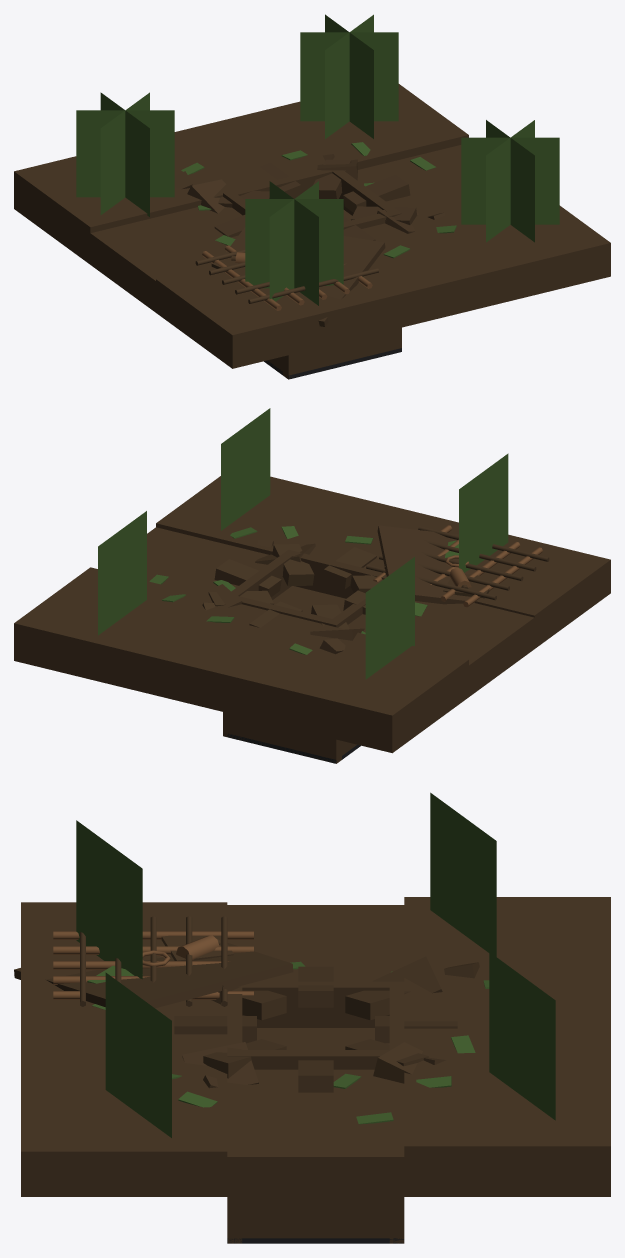
The model's file is vc-tunnel-entrance.glb.
3 views of the same model, one above another, from view 1: azimuth 30°, elevation 25°; view 2: azimuth 150°, elevation 25°; view 3: azimuth 270°, elevation 25° (orthographic). The views are drawn at different scales.
Parts seen in each view (by area): view 1: Mesh_GroundFront, Mesh_GroundBack, Mesh_JungleGrass1, Mesh_JungleGrass3, Mesh_JungleGrass2, Mesh_JungleGrass4, Mesh_GroundRight, Mesh_GroundBase, Mesh_GroundLeft, Mesh_ShaftWallFront, Mesh_TrapdoorBase, Mesh_Rim_6 (+8 smaller); view 2: Mesh_GroundBack, Mesh_GroundFront, Mesh_GroundBase, Mesh_GroundRight, Mesh_GroundLeft, Mesh_JungleGrass1, Mesh_JungleGrass3, Mesh_JungleGrass2, Mesh_JungleGrass4, Mesh_TrapdoorBase, Mesh_ShaftWallBack, Mesh_ShaftWallFront (+9 smaller); view 3: Mesh_GroundBack, Mesh_GroundFront, Mesh_GroundLeft, Mesh_GroundRight, Mesh_GroundBase, Mesh_ShaftWallLeft, Mesh_JungleGrass1, Mesh_JungleGrass2, Mesh_JungleGrass3, Mesh_JungleGrass4, Mesh_TrapdoorBase, Mesh_ShaftWallRight (+18 smaller).
Boxes of the visible parts, x1,y1,x2,y2 form: Mesh_GroundFront: [156, 205, 610, 358]; Mesh_GroundBack: [14, 84, 468, 254]; Mesh_JungleGrass1: [300, 14, 398, 138]; Mesh_JungleGrass3: [76, 92, 174, 216]; Mesh_JungleGrass2: [461, 120, 559, 242]; Mesh_JungleGrass4: [245, 181, 343, 305]; Mesh_GroundRight: [90, 207, 242, 302]; Mesh_GroundBase: [14, 199, 610, 368]; Mesh_GroundLeft: [357, 145, 461, 214]; Mesh_ShaftWallFront: [283, 209, 401, 379]; Mesh_TrapdoorBase: [224, 227, 385, 326]; Mesh_Rim_6: [343, 174, 410, 212]; Mesh_GroundBack: [14, 567, 468, 743]; Mesh_GroundFront: [156, 476, 610, 638]; Mesh_GroundBase: [14, 583, 610, 753]; Mesh_GroundRight: [348, 601, 534, 686]; Mesh_GroundLeft: [147, 527, 268, 593]; Mesh_JungleGrass1: [98, 511, 146, 635]; Mesh_JungleGrass3: [365, 557, 414, 679]; Mesh_JungleGrass2: [221, 408, 270, 530]; Mesh_JungleGrass4: [459, 453, 508, 572]; Mesh_TrapdoorBase: [377, 525, 477, 604]; Mesh_ShaftWallBack: [225, 595, 341, 763]; Mesh_ShaftWallFront: [291, 552, 386, 598]; Mesh_GroundBack: [404, 897, 610, 1183]; Mesh_GroundFront: [21, 902, 227, 1183]; Mesh_GroundLeft: [227, 1069, 404, 1183]; Mesh_GroundRight: [227, 905, 404, 981]; Mesh_GroundBase: [21, 1028, 610, 1196]; Mesh_ShaftWallLeft: [227, 1050, 390, 1238]; Mesh_JungleGrass1: [489, 952, 555, 1120]; Mesh_JungleGrass2: [105, 972, 171, 1137]; Mesh_JungleGrass3: [430, 792, 496, 956]; Mesh_JungleGrass4: [76, 820, 142, 979]; Mesh_TrapdoorBase: [14, 943, 293, 1008]; Mesh_ShaftWallRight: [241, 981, 404, 1027].
Bounding box in the file's own units: 2 × 1.14 × 2.02.
